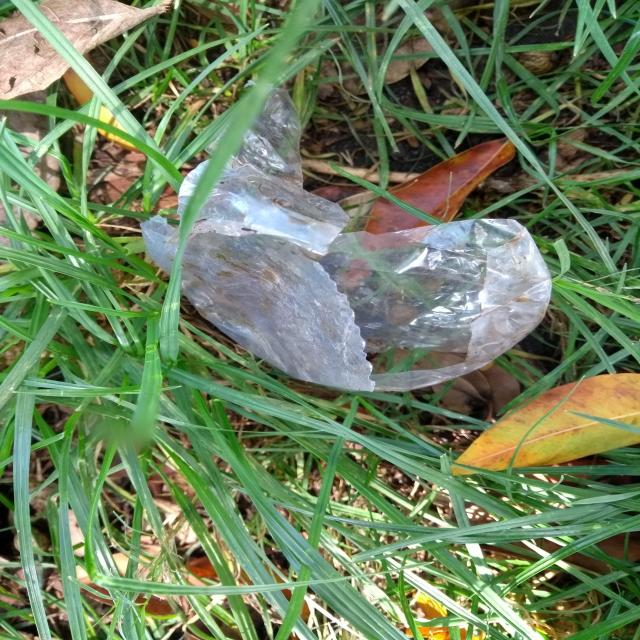litter: (122, 54, 579, 422)
